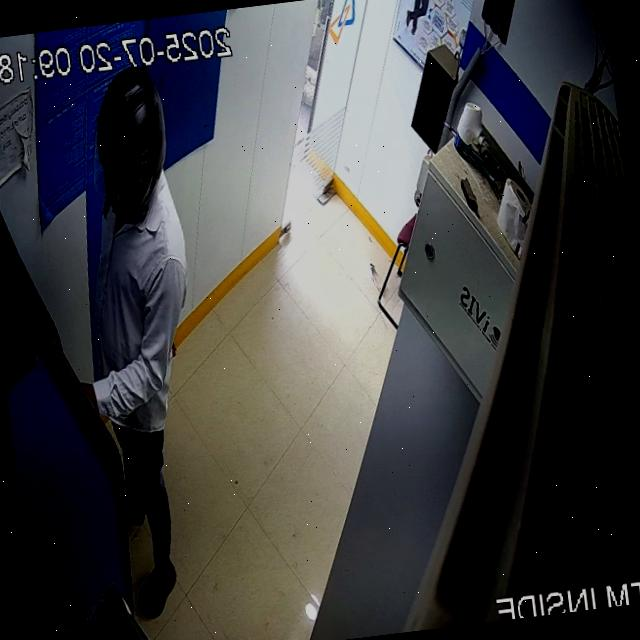helmet: (93, 67, 165, 217)
